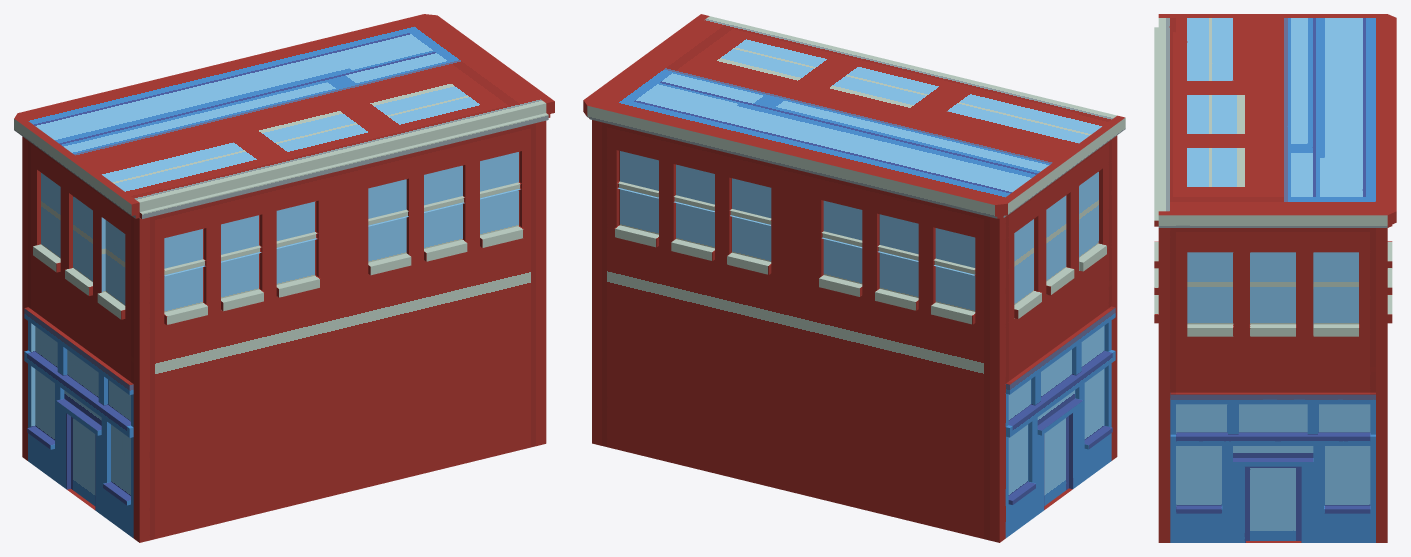
The model's file is building5.glb.
3 renders of one model, left to right at view 1: azimuth 30°, elevation 25°; view 2: azimuth 150°, elevation 25°; view 3: azimuth 270°, elevation 25°, orthographic. The views are drawn at different scales.
Visible parts, largest first — view 1: 3.001; view 2: 3.001; view 3: 3.001.
Part boxes in pixels (x1,y1,x2,y2): 3.001: (14,14,554,542); 3.001: (583,14,1125,542); 3.001: (1154,14,1396,542).
Bounding box in the file's own units: 10.41 × 8 × 5.3.
Materials: 4 (4 with a texture image).
